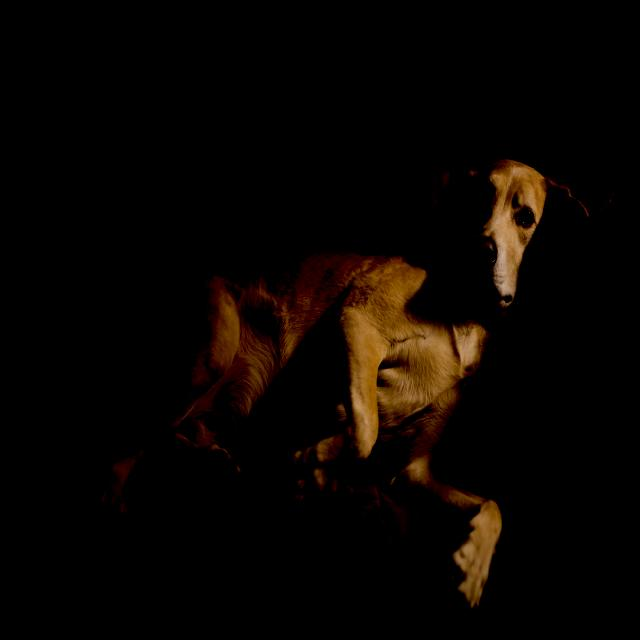Dog: (79, 160, 586, 614)
